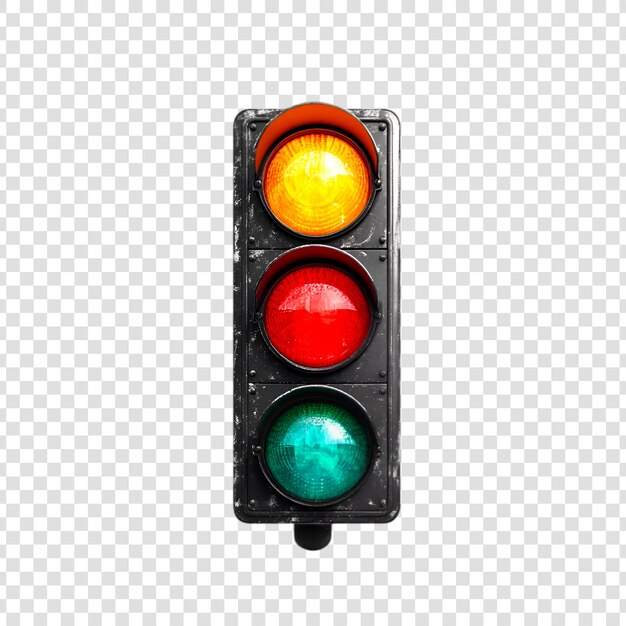TraficLight: (216, 95, 413, 563)
